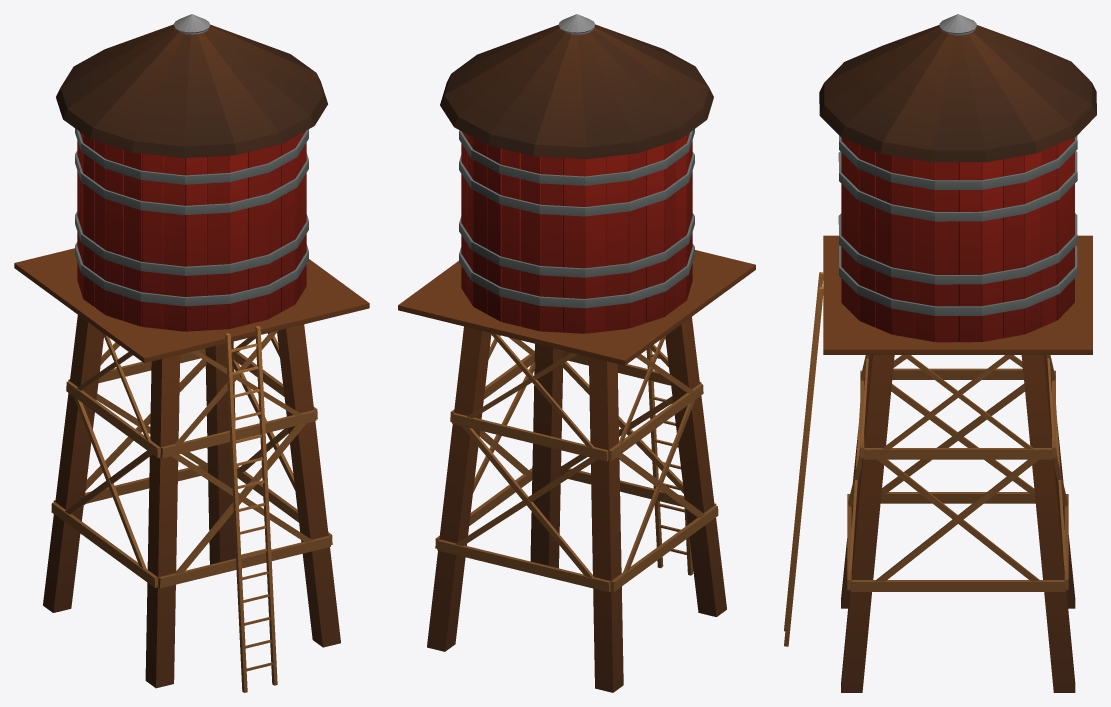
File: Bld_Water_Tower_01.obj
3 renders of one model, left to right at view 1: azimuth 30°, elevation 25°; view 2: azimuth 150°, elevation 25°; view 3: azimuth 270°, elevation 25°, orthographic. The views are drawn at different scales.
Visible parts, largest first — view 1: Bld_Water_Tower_01; view 2: Bld_Water_Tower_01; view 3: Bld_Water_Tower_01.
Part boxes in pixels (bbox=[...]): Bld_Water_Tower_01: bbox=[14, 14, 369, 692]; Bld_Water_Tower_01: bbox=[398, 14, 755, 692]; Bld_Water_Tower_01: bbox=[784, 14, 1096, 692].
Bounding box in the file's own units: 4.66 × 11.71 × 5.25.
1 material, 1 textured.
